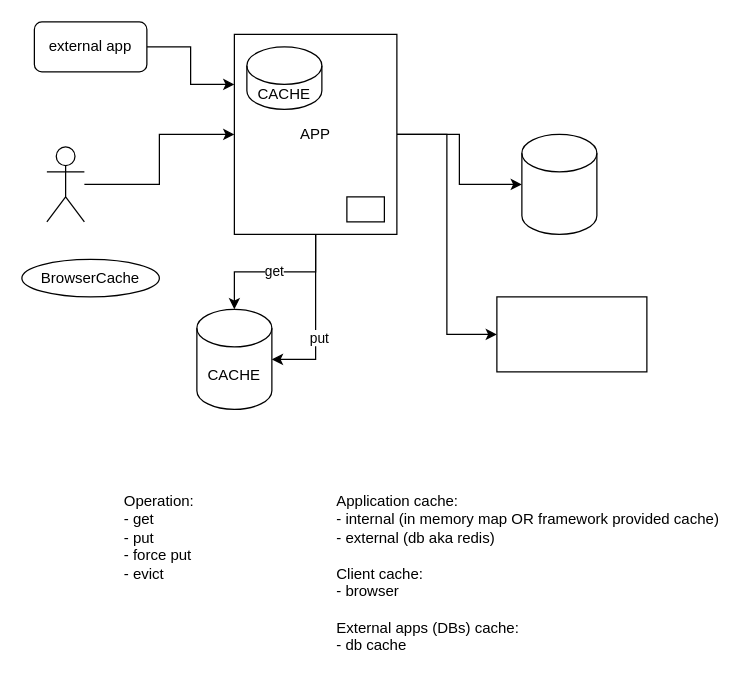
The diagram is 756 pixels wide and 681 high, and some of its shapes have lost their labels. The centre of each missing label's shape, as x and y in pixels:
"Actor" belongs at pixel 65 184.
"APP2" belongs at pixel 571 334.
"DB" belongs at pixel 559 183.
